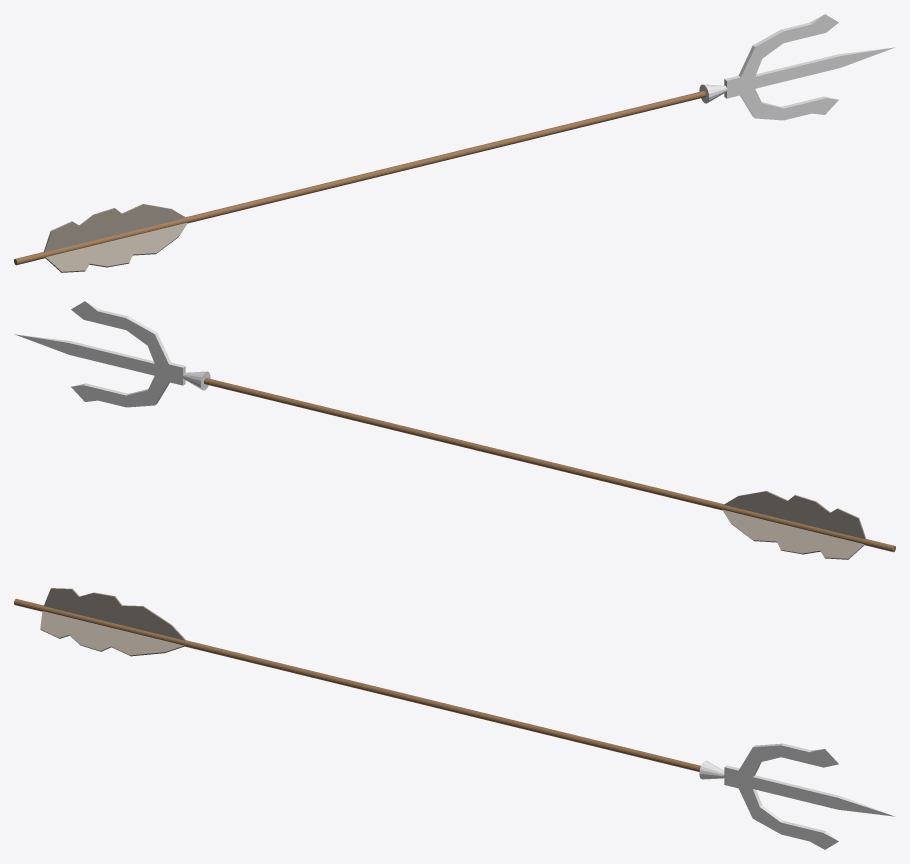
Rendered from aerrowtrident.glb.
The picture shows the model from 3 angles, top to bottom: view 1: azimuth 30°, elevation 25°; view 2: azimuth 150°, elevation 25°; view 3: azimuth 330°, elevation 25°; orthographic projection.
Visible parts, largest first — view 1: Trident, Shaft, Feather1, Feather2; view 2: Trident, Shaft, Feather1, Feather3; view 3: Trident, Shaft, Feather1, Feather2.
Boxes of the visible parts, x1,y1,x2,y2 form: Trident: (724, 14, 894, 120); Shaft: (14, 91, 705, 265); Feather1: (43, 204, 185, 252); Feather2: (45, 222, 187, 272); Trident: (15, 301, 185, 407); Shaft: (204, 378, 895, 552); Feather1: (724, 491, 866, 539); Feather3: (722, 509, 864, 559); Trident: (724, 743, 894, 849); Shaft: (14, 598, 724, 777); Feather1: (44, 588, 185, 640); Feather2: (40, 611, 184, 656).
Bounding box in the file's own units: 6.2 × 0.68 × 0.3514.
